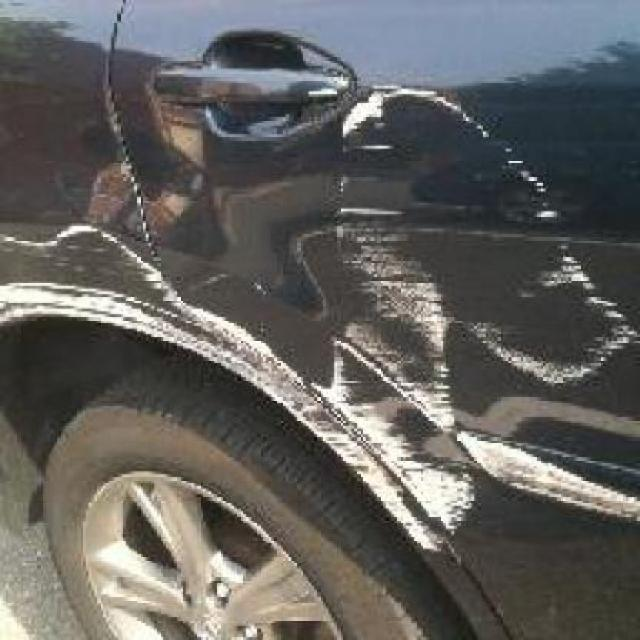dent-or-scratch: (338, 94, 638, 528)
